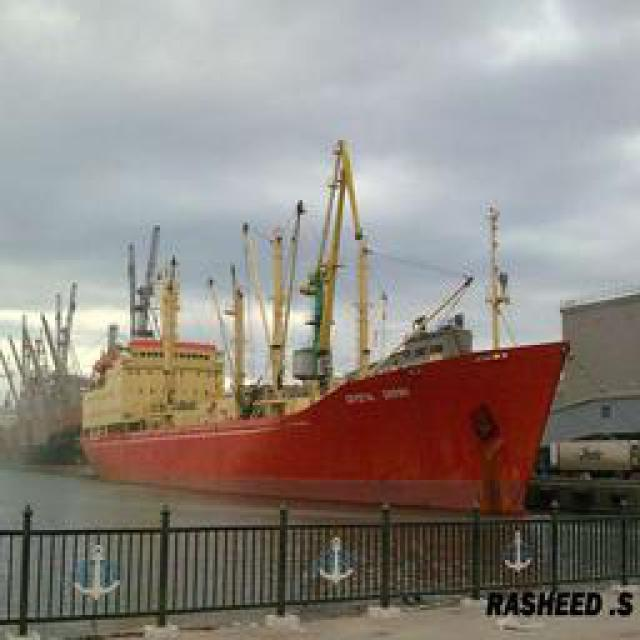Ship: (70, 201, 578, 504)
